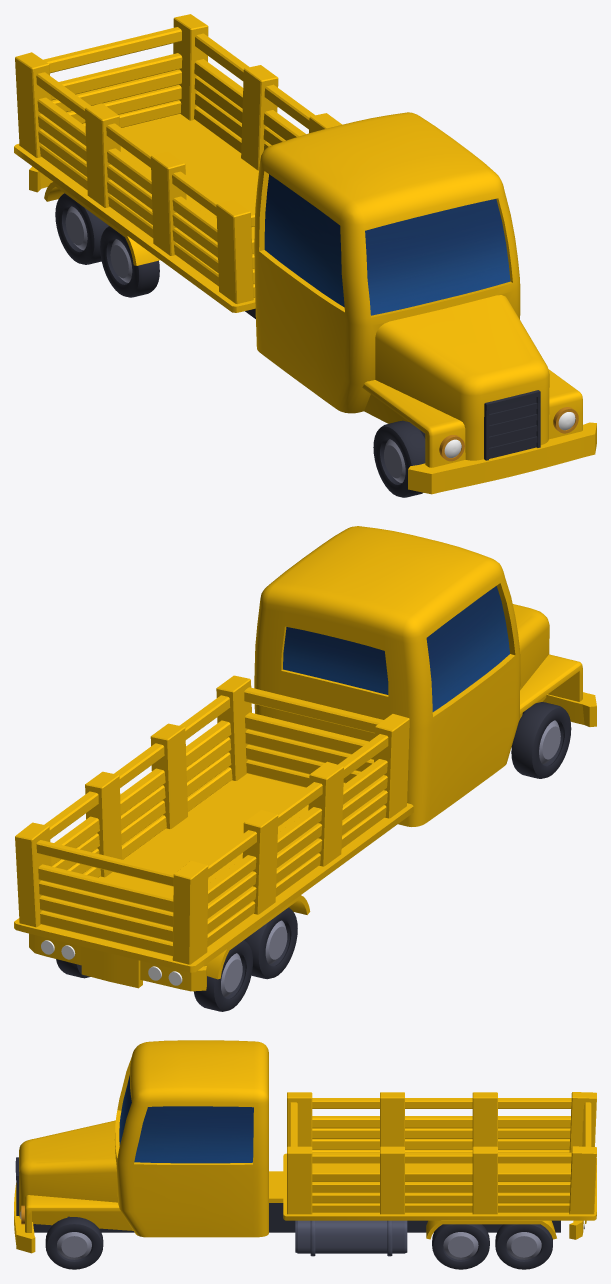
Rendered from Car_10.fbx.
3 renders of one model, top to bottom at view 1: azimuth 30°, elevation 25°; view 2: azimuth 150°, elevation 25°; view 3: azimuth 270°, elevation 25°, orthographic. The views are drawn at different scales.
Visible parts, largest first — view 1: Circle.066; view 2: Circle.066; view 3: Circle.066.
Part boxes in pixels (x1,y1,x2,y2): Circle.066: [14, 14, 596, 497]; Circle.066: [14, 526, 596, 1011]; Circle.066: [14, 1040, 596, 1269].
Bounding box in the file's own units: 516 × 674 × 1949.
1 material, 1 textured.
